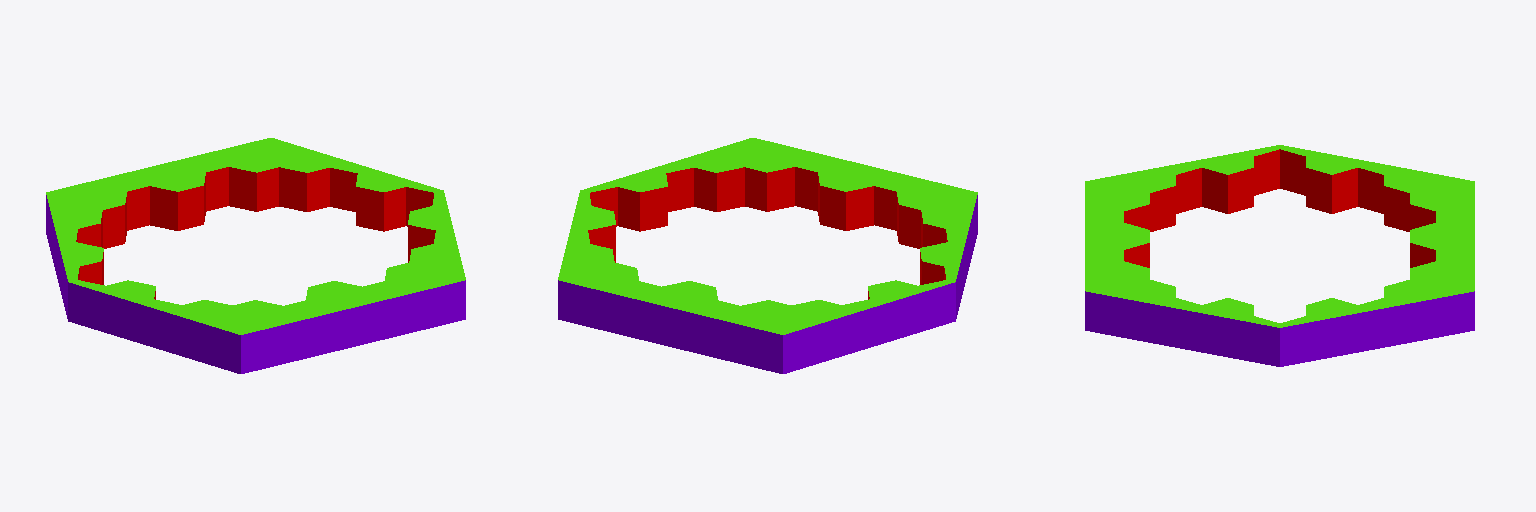
File: FinalBoard.obj
3 views of the same model, side by side, from view 1: azimuth 30°, elevation 25°; view 2: azimuth 150°, elevation 25°; view 3: azimuth 270°, elevation 25° (orthographic).
Visible parts, largest first — view 1: FinalBoard; view 2: FinalBoard; view 3: FinalBoard.
Boxes of the visible parts, x1,y1,x2,y2 form: FinalBoard: [46, 138, 465, 373]; FinalBoard: [558, 138, 977, 373]; FinalBoard: [1085, 145, 1474, 366].
Bounding box in the file's own units: 10 × 1 × 9.